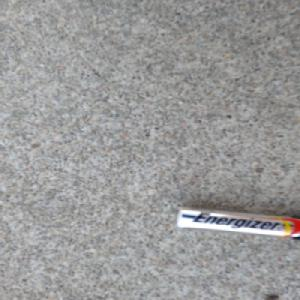Battery: (170, 203, 300, 241)
